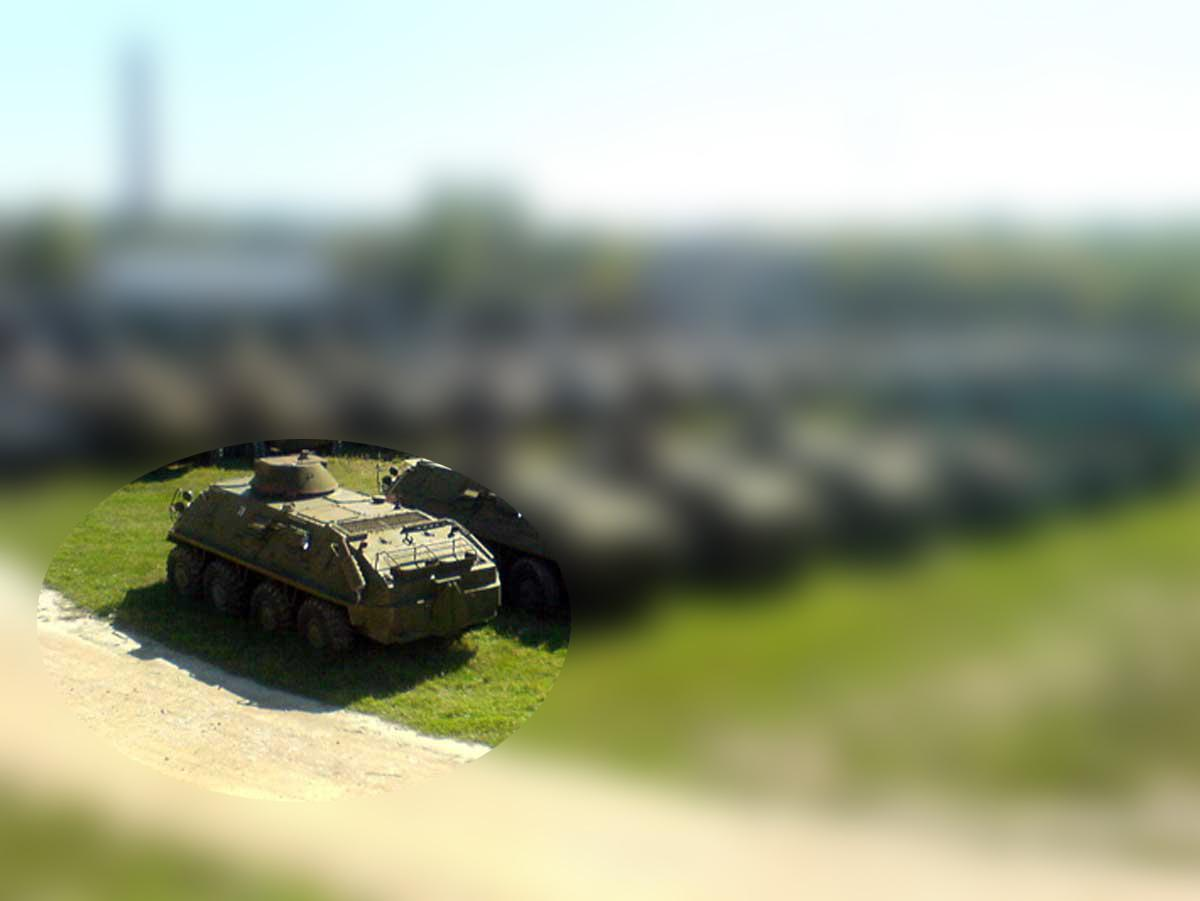armored_car: (164, 441, 507, 659)
